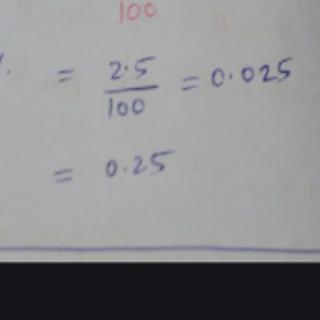.: (226, 68, 237, 82), (121, 62, 134, 73), (121, 164, 130, 173)
0: (206, 65, 230, 86), (239, 64, 257, 84), (125, 1, 142, 19), (105, 158, 119, 177), (131, 95, 144, 114), (141, 2, 158, 16), (117, 100, 131, 117)
1: (105, 95, 114, 118), (116, 1, 124, 21)
2: (130, 153, 146, 178), (108, 59, 122, 80)
5: (149, 145, 174, 175), (135, 50, 158, 81), (276, 55, 296, 83)
